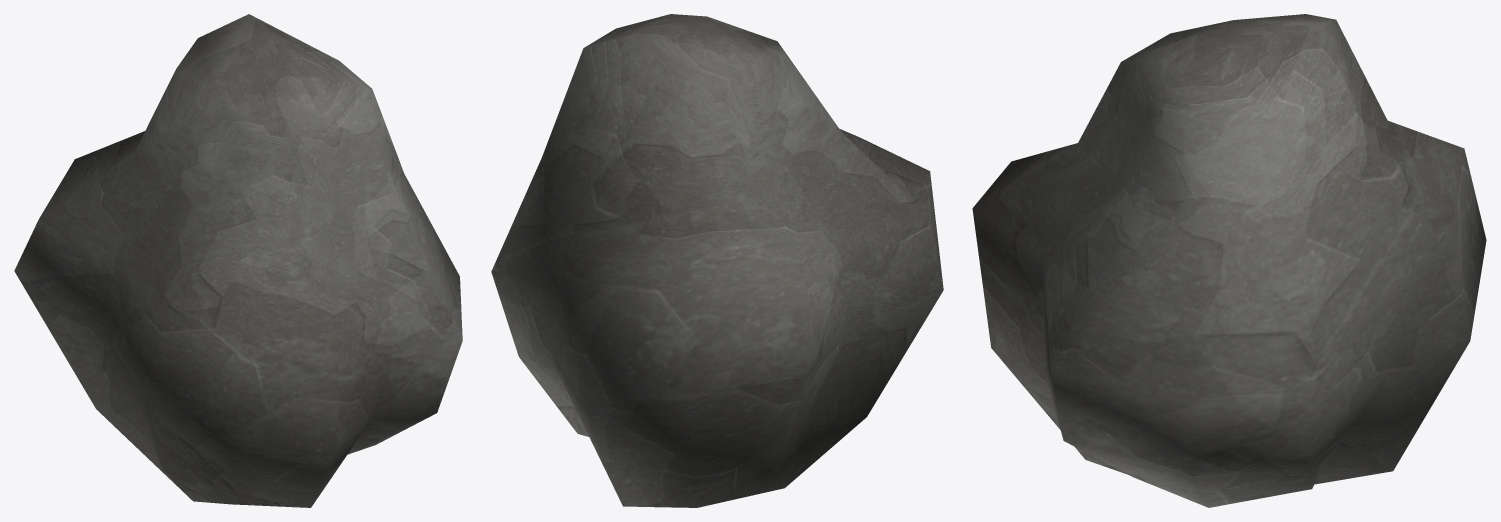
The model's file is stone.fbx.
3 views of the same model, side by side, from view 1: azimuth 30°, elevation 25°; view 2: azimuth 150°, elevation 25°; view 3: azimuth 270°, elevation 25° (orthographic). The views are drawn at different scales.
Parts seen in each view (by area): view 1: stone_01_2; view 2: stone_01_2; view 3: stone_01_2.
Part boxes in pixels (x1,y1,x2,y2): stone_01_2: (14,14,462,507); stone_01_2: (491,14,943,507); stone_01_2: (972,14,1486,507).
Size of the model in its own units: 3.61 by 4.26 by 3.98.
Materials: 1 (1 with a texture image).
